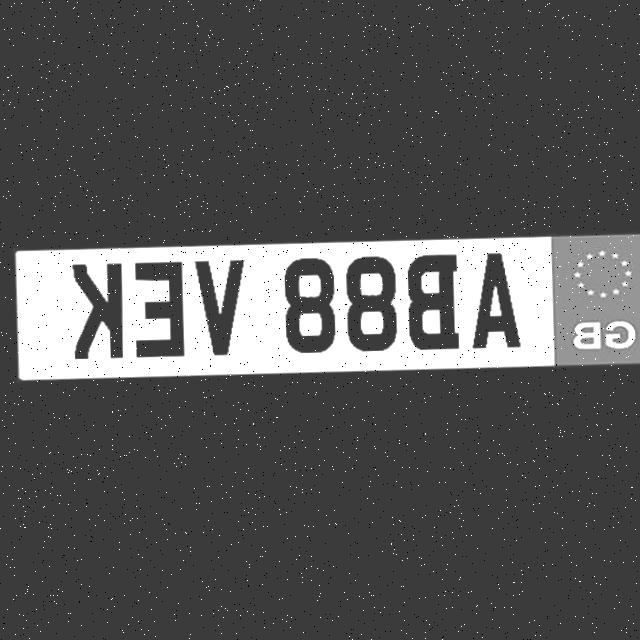license-plates: (12, 233, 640, 378)
